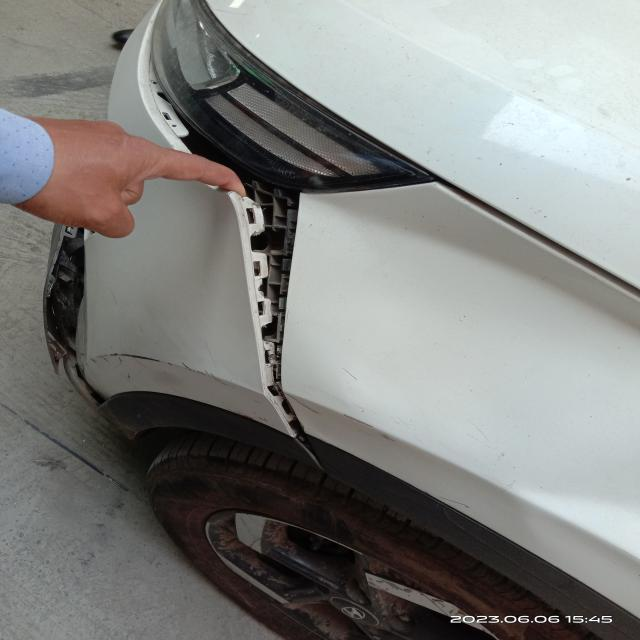damage: (214, 178, 289, 428), (40, 221, 78, 368), (89, 349, 178, 369)
